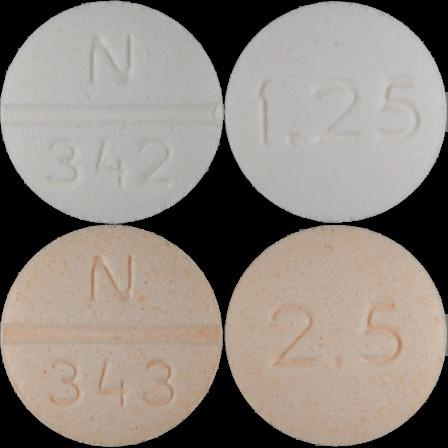0093-8342: (0, 0, 224, 224)
